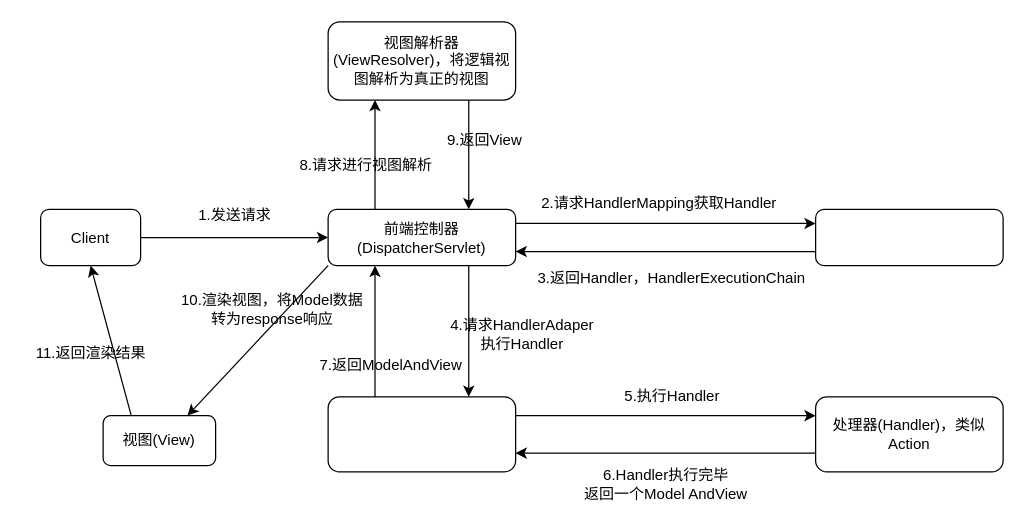
Some shapes in this 1025 by 531 pixel diagram are drawn without their labels. The centre of each missing label's shape, as x and y in pixels:
处理映射器(HandlerMapping): the point at 908,237
处理适配器(HandlerAdapter)，执行不同类型的Handler: the point at 421,434
